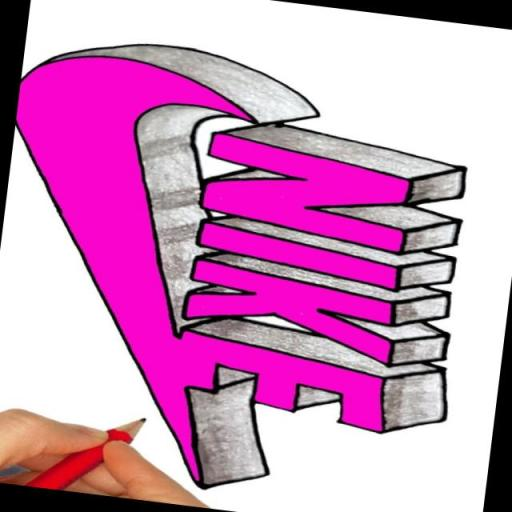Nike: (0, 49, 222, 415), (172, 132, 425, 433)
